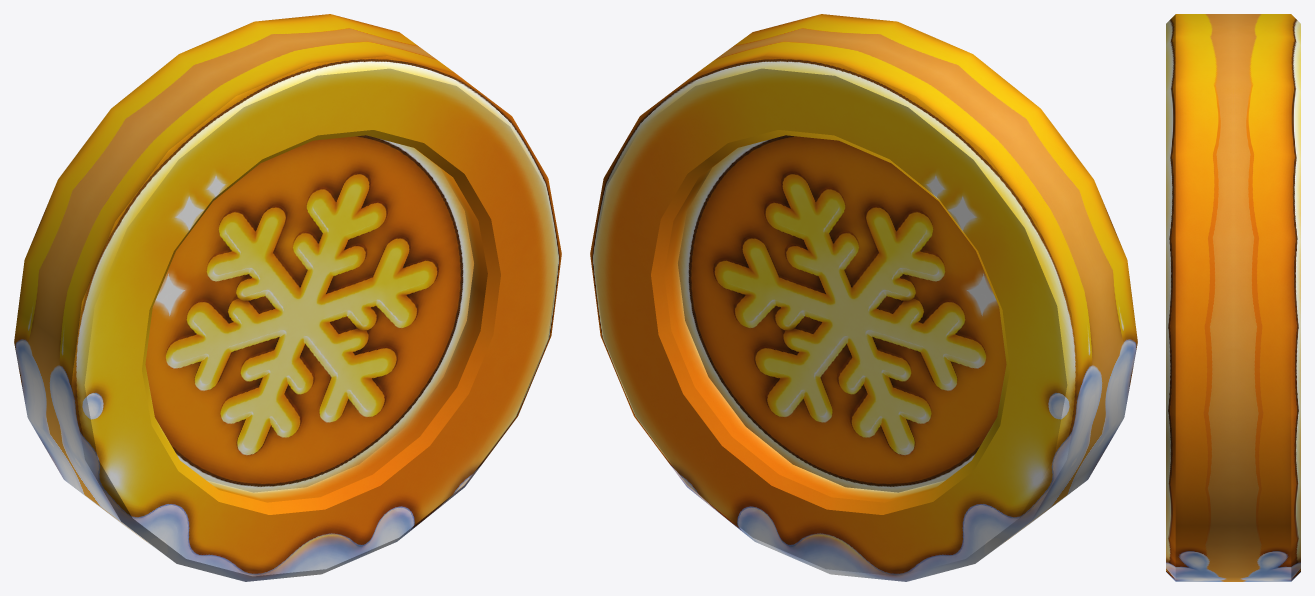
The model's file is COIN (1).fbx.
3 renders of one model, left to right at view 1: azimuth 30°, elevation 25°; view 2: azimuth 150°, elevation 25°; view 3: azimuth 270°, elevation 25°, orthographic.
Parts seen in each view (by area): view 1: coin.001; view 2: coin.001; view 3: coin.001.
Part boxes in pixels (<box>): coin.001: <box>14,14,561,581</box>; coin.001: <box>590,14,1137,581</box>; coin.001: <box>1166,14,1300,581</box>.
Size of the model in its own units: 786 by 786 by 186.
1 material, 1 textured.
